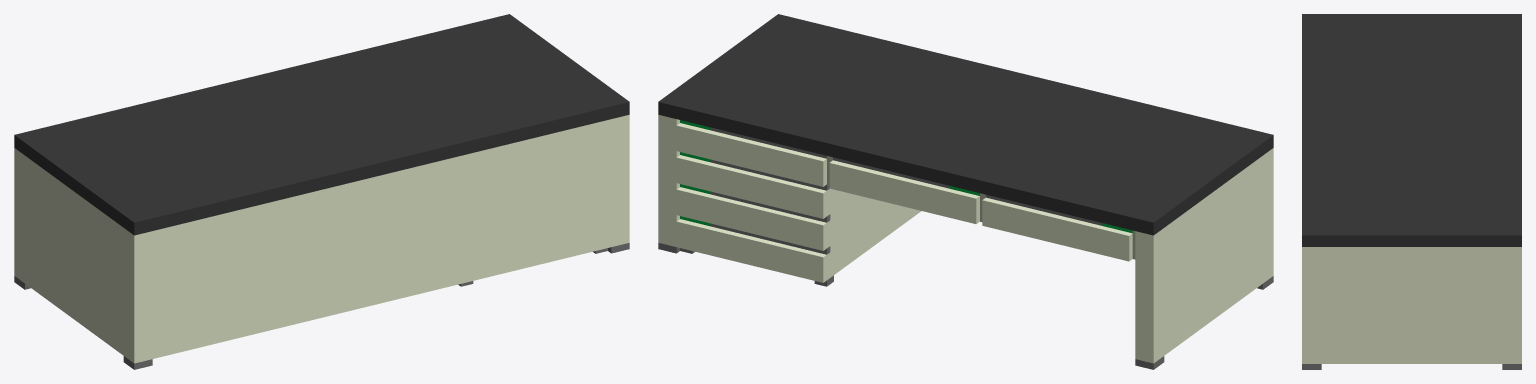
Rendered from Desk2-8.fbx.
The picture shows the model from 3 angles, left to right: view 1: azimuth 30°, elevation 25°; view 2: azimuth 150°, elevation 25°; view 3: azimuth 270°, elevation 25°; orthographic projection. The views are drawn at different scales.
Visible parts, largest first — view 1: Desk2-8.001; view 2: Desk2-8.001, Desk2-8; view 3: Desk2-8.001.
Part boxes in pixels (box(x1,y1,x2,y2)): Desk2-8.001: box(14, 14, 629, 369); Desk2-8.001: box(658, 14, 1273, 369); Desk2-8: box(676, 152, 921, 286); Desk2-8.001: box(1302, 14, 1521, 369).
Size of the model in its own units: 8.1 by 2.3 by 3.4.
